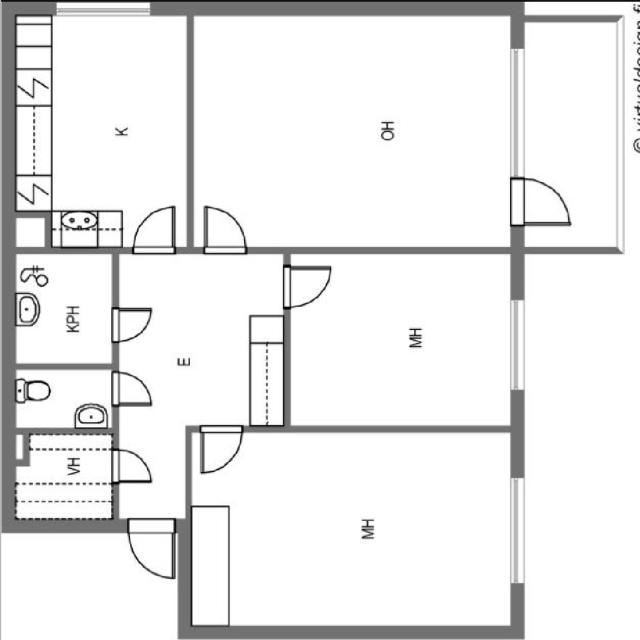door: (124, 518, 181, 582), (512, 173, 574, 227), (198, 200, 254, 256), (128, 200, 181, 257), (196, 421, 247, 478), (279, 261, 334, 310), (108, 444, 159, 486), (108, 302, 156, 344), (110, 368, 156, 408)
window: (499, 43, 536, 182), (499, 468, 535, 590), (502, 292, 534, 398), (52, 0, 156, 22)
zone: (192, 7, 519, 245), (190, 430, 513, 624), (9, 9, 192, 246), (287, 250, 520, 428), (110, 251, 290, 429), (514, 11, 628, 244), (12, 248, 118, 368), (17, 430, 117, 526), (10, 367, 116, 431), (248, 335, 286, 429)
